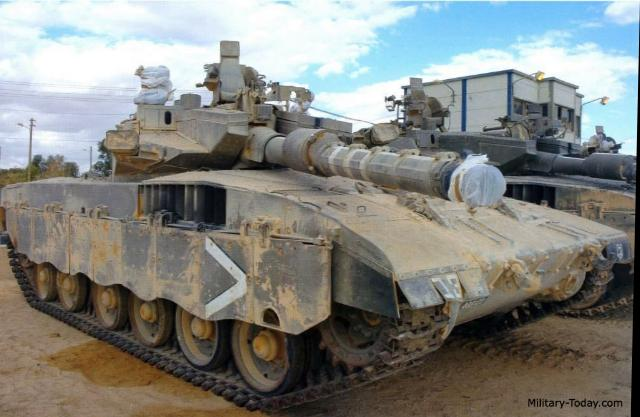tank: (33, 137, 558, 374)
